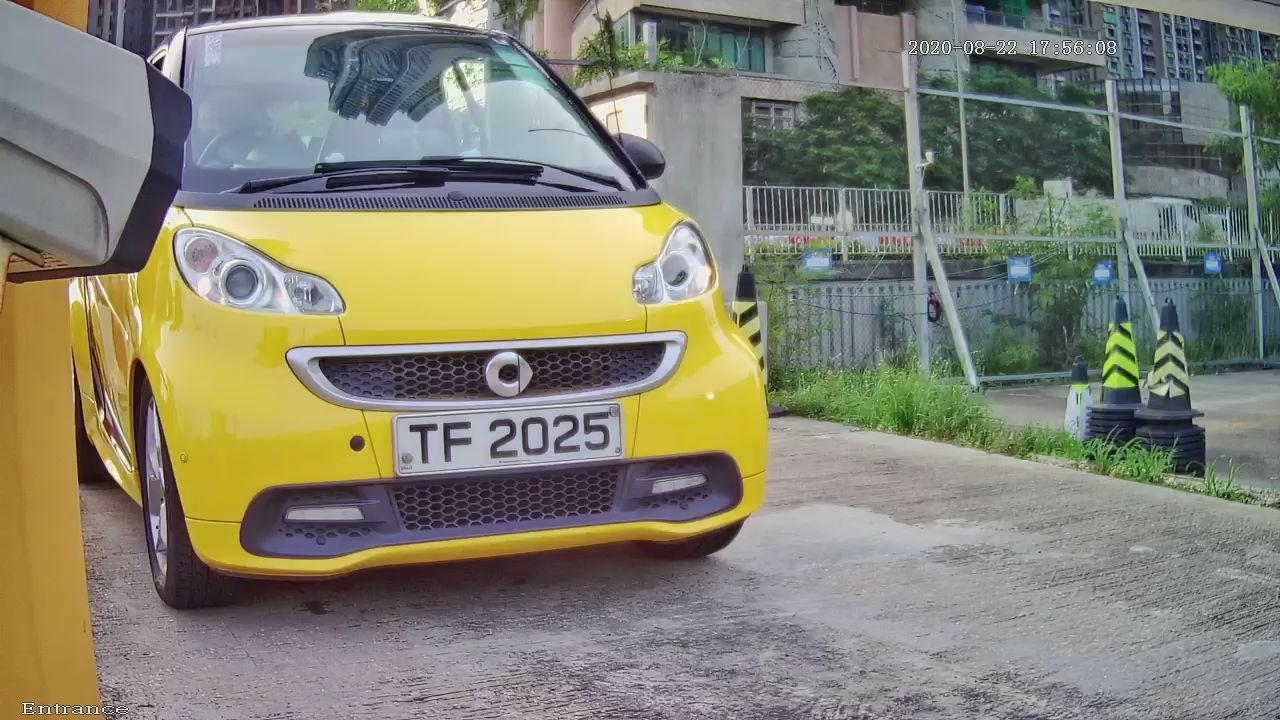Car: (23, 10, 783, 634)
License Plate: (328, 365, 685, 497)
